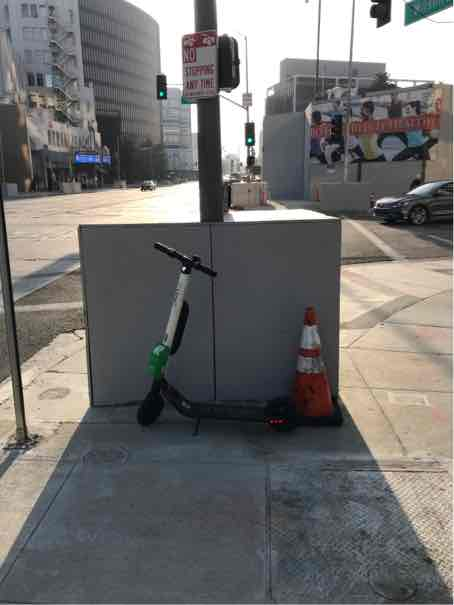scooter: (126, 233, 294, 441)
